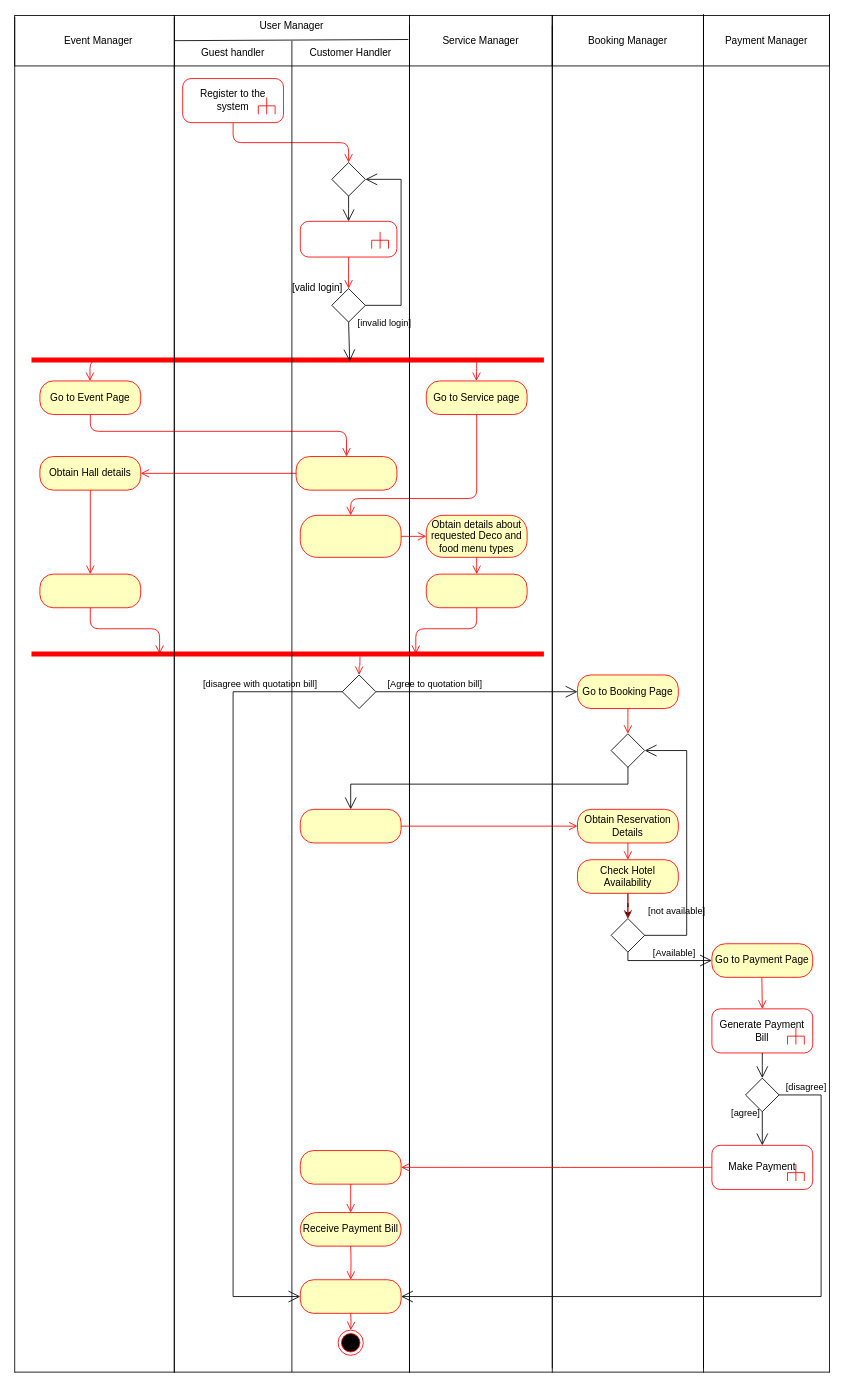
Image size: 848x1389. Some labels were removed from this diagram. Each missing label, with the box of its shape:
Confirm Payment: (299, 1150, 401, 1184)
Enter details and food menu types: (299, 514, 401, 557)
Enter Hall details: (295, 456, 397, 490)
Enter Reservation Details: (299, 808, 401, 843)
Generate quotation bill for hall: (39, 573, 141, 608)
Generate quotation bill for services: (425, 573, 527, 608)
Login: (299, 220, 397, 257)
Logout: (299, 1279, 401, 1313)
